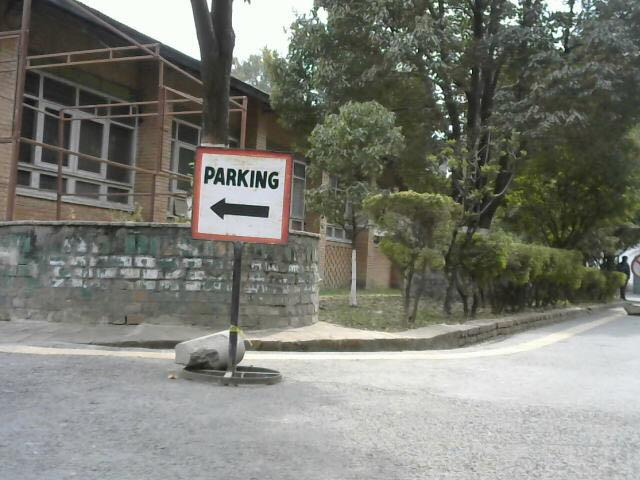Road: (5, 344, 640, 479)
Traffic sign: (184, 140, 304, 404)
Tree: (308, 0, 638, 309), (375, 180, 459, 340), (502, 234, 599, 309), (458, 215, 523, 321)
